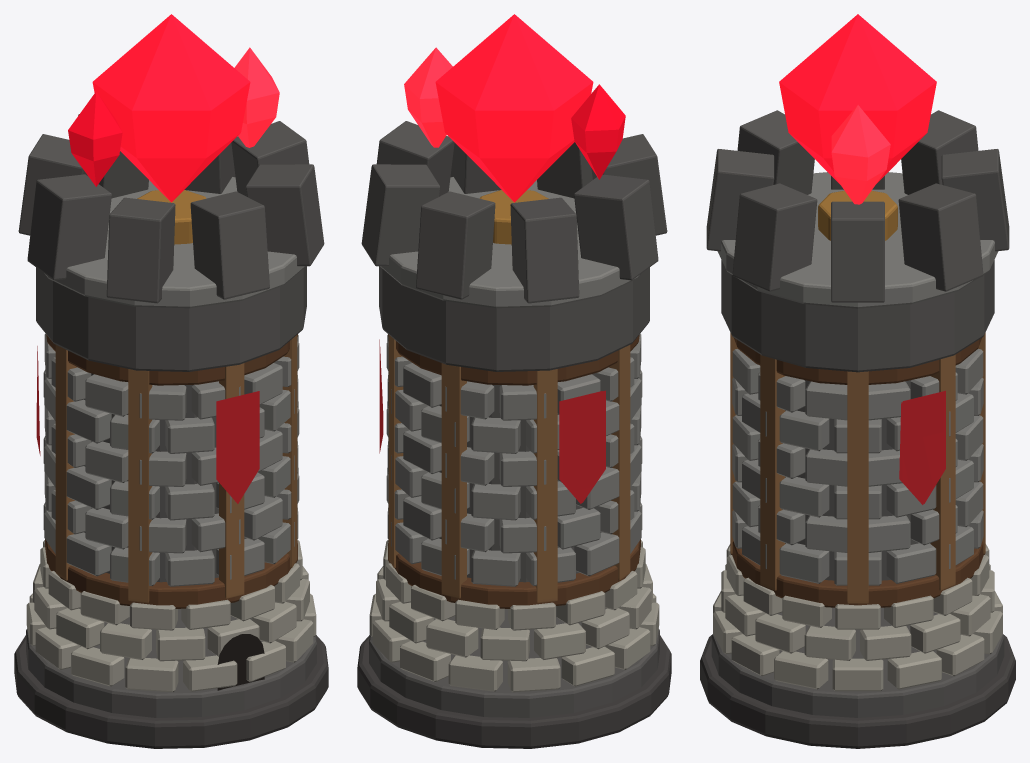
Rendered from ExactReference_MagicStone_Tower.fbx.
3 renders of one model, left to right at view 1: azimuth 30°, elevation 25°; view 2: azimuth 150°, elevation 25°; view 3: azimuth 270°, elevation 25°, orthographic.
Visible parts, largest first — view 1: Pedestal_TowerBricks, Pedestal_FoundationBricks, Crystal_Main, Pedestal_CrownWall, Pedestal_Base.003, Pedestal_Foundation, Pedestal_Crenel_6.001, Pedestal_Crenel_4.001, Pedestal_Crenel_5.001, Pedestal_CrownTop, Pedestal_Crenel_7.001, Pedestal_Rib_5 (+15 smaller); view 2: Pedestal_TowerBricks, Pedestal_FoundationBricks, Crystal_Main, Pedestal_CrownWall, Pedestal_Base.003, Pedestal_Foundation, Pedestal_Crenel_2.002, Pedestal_Crenel_4.001, Pedestal_Crenel_3.002, Pedestal_CrownTop, Pedestal_Crenel_1.002, Pedestal_Rib_2 (+14 smaller); view 3: Pedestal_TowerBricks, Pedestal_FoundationBricks, Pedestal_CrownWall, Crystal_Main, Pedestal_Base.003, Pedestal_Foundation, Pedestal_CrownTop, Pedestal_Crenel_1.002, Pedestal_Crenel_7.001, Pedestal_Crenel_0.002, Pedestal_Rib_0, Pedestal_FoundationBand (+13 smaller).
Boxes of the visible parts, x1,y1,x2,y2 form: Pedestal_TowerBricks: (43,333,299,586); Pedestal_FoundationBricks: (26,539,316,692); Crystal_Main: (92,14,250,202); Pedestal_CrownWall: (36,266,306,371); Pedestal_Base.003: (14,635,328,748); Pedestal_Foundation: (26,606,316,717); Pedestal_Crenel_6.001: (190,191,269,299); Pedestal_Crenel_4.001: (27,174,111,280); Pedestal_Crenel_5.001: (106,197,175,303); Pedestal_CrownTop: (44,177,305,308); Pedestal_Crenel_7.001: (245,164,324,266); Pedestal_Rib_5: (128,369,152,602); Pedestal_TowerBricks: (386,333,642,586); Pedestal_FoundationBricks: (369,539,659,692); Crystal_Main: (435,14,593,202); Pedestal_CrownWall: (379,266,649,371); Pedestal_Base.003: (357,635,671,748); Pedestal_Foundation: (369,606,659,717); Pedestal_Crenel_2.002: (416,191,495,299); Pedestal_Crenel_4.001: (574,174,658,280); Pedestal_Crenel_3.002: (510,197,579,303); Pedestal_CrownTop: (380,177,641,308); Pedestal_Crenel_1.002: (361,164,440,266); Pedestal_Rib_2: (441,363,466,598); Pedestal_TowerBricks: (732,349,983,585); Pedestal_FoundationBricks: (713,544,1002,691); Pedestal_CrownWall: (721,260,994,372); Crystal_Main: (779,14,936,184); Pedestal_Base.003: (700,634,1015,748); Pedestal_Foundation: (711,607,1004,717); Pedestal_CrownTop: (717,172,998,308); Pedestal_Crenel_1.002: (898,183,983,291); Pedestal_Crenel_7.001: (732,183,817,291); Pedestal_Crenel_0.002: (831,201,884,302); Pedestal_Rib_0: (847,371,868,603); Pedestal_FoundationBand: (731,541,984,607).
Bounding box in the file's own units: 1.64 × 3.84 × 1.64.
